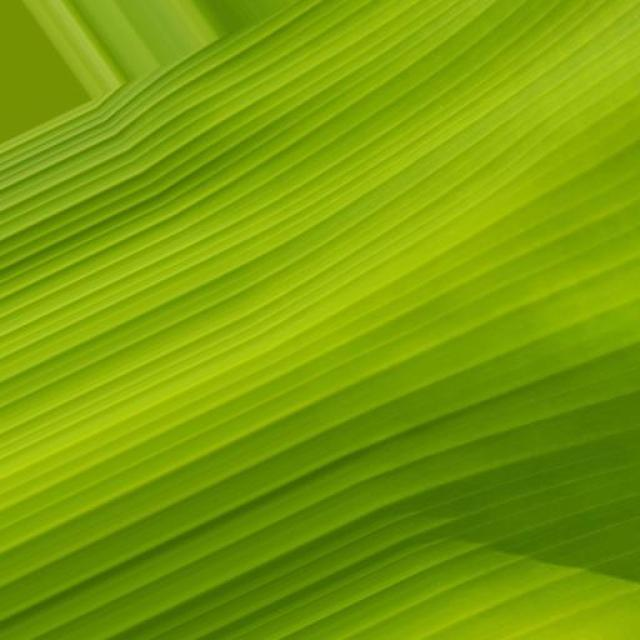Black_leaf_spot: (25, 36, 622, 640)
